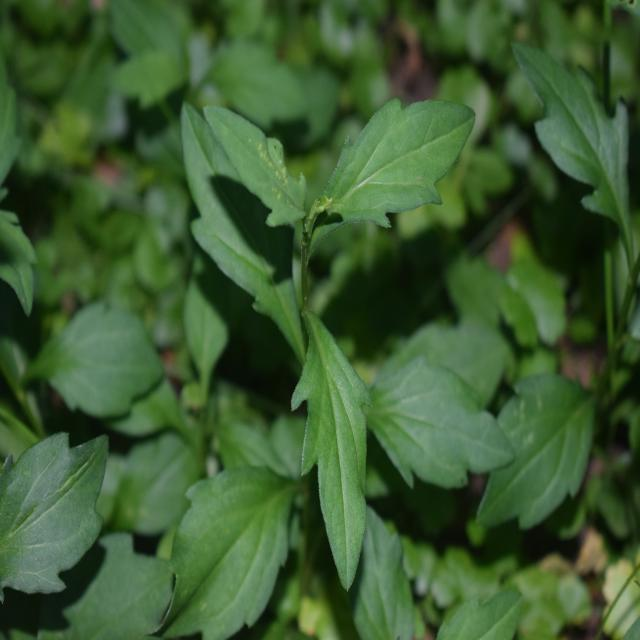Indian aster: (169, 95, 519, 588)
